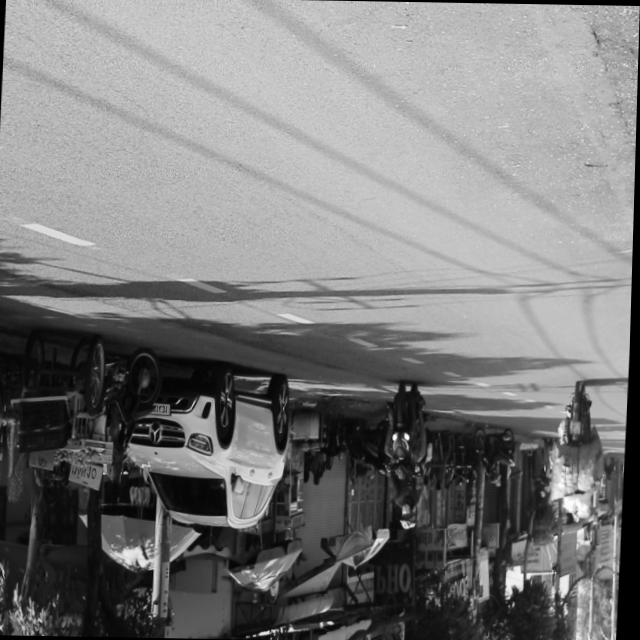helmet: (402, 504, 416, 530)
licenseplate: (381, 380, 434, 531)
